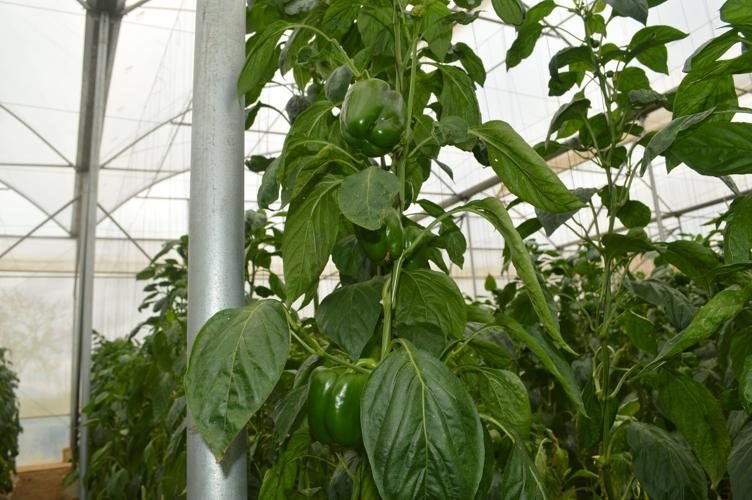BellPepper: (295, 359, 379, 453), (337, 77, 409, 160), (350, 203, 408, 266)
